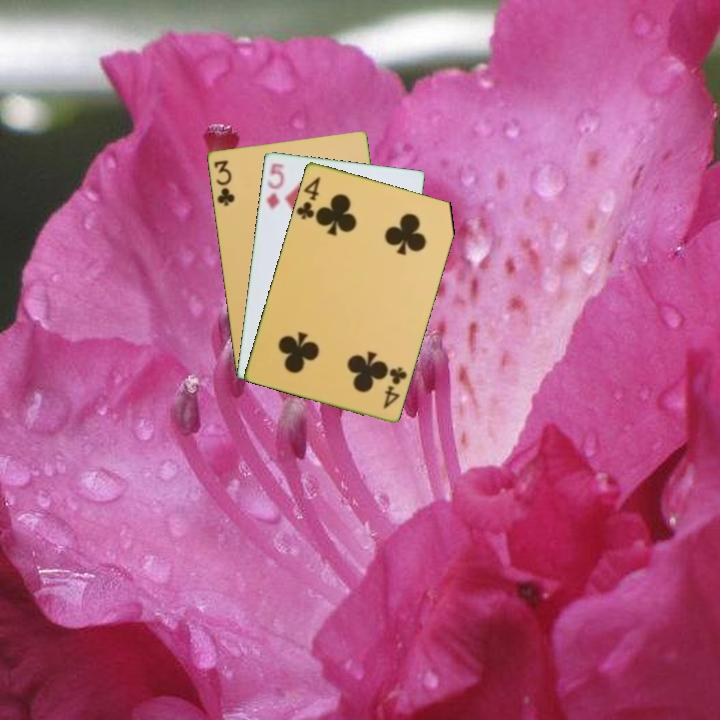3c: (210, 156, 237, 209)
4c: (293, 173, 323, 222), (380, 363, 410, 411)
5d: (263, 159, 287, 212)
